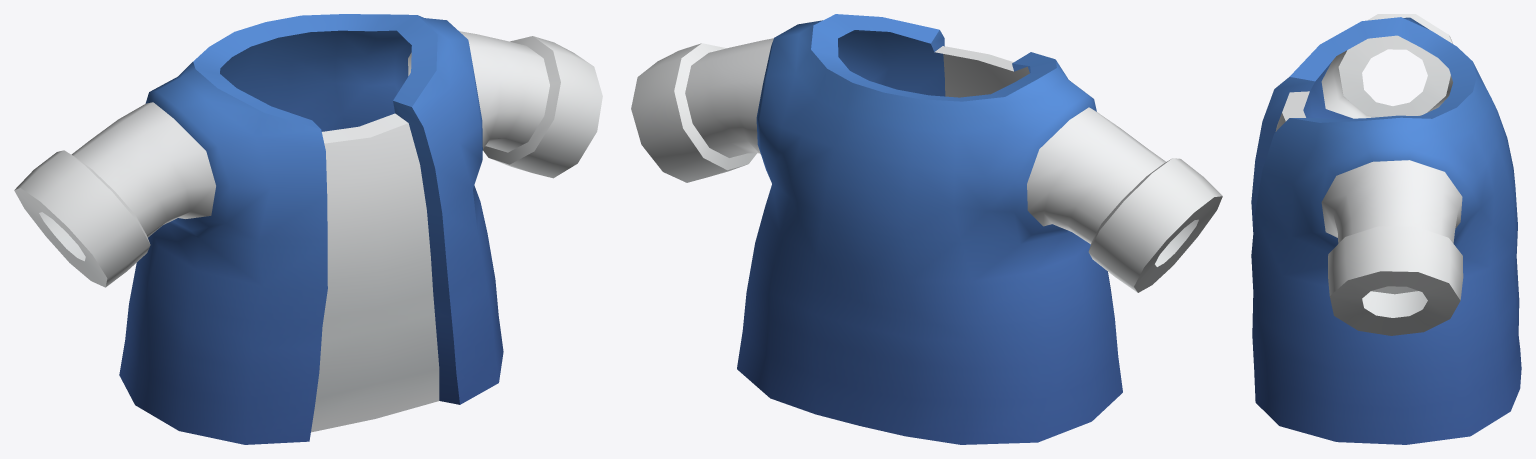
The model's file is Outwear_06.glb.
3 renders of one model, left to right at view 1: azimuth 30°, elevation 25°; view 2: azimuth 150°, elevation 25°; view 3: azimuth 270°, elevation 25°, orthographic. The views are drawn at different scales.
Visible parts, largest first — view 1: Outwear_06; view 2: Outwear_06; view 3: Outwear_06.
Part boxes in pixels (left/top/right/bottom): Outwear_06: left=14, top=14, right=602, bottom=444; Outwear_06: left=631, top=14, right=1222, bottom=444; Outwear_06: left=1251, top=14, right=1521, bottom=444.
Size of the model in its own units: 0.4629 by 0.2605 by 0.2105.
1 material, 1 textured.
